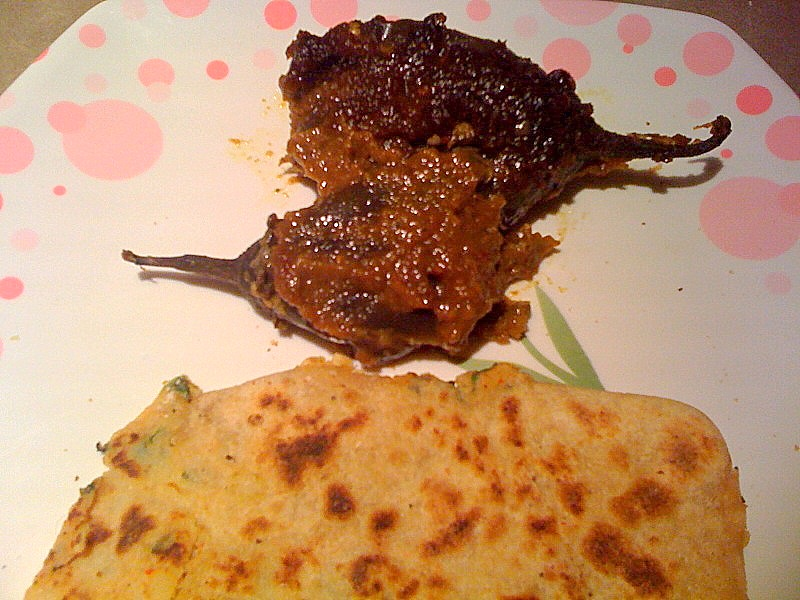aloo_paratha: (30, 361, 755, 600)
